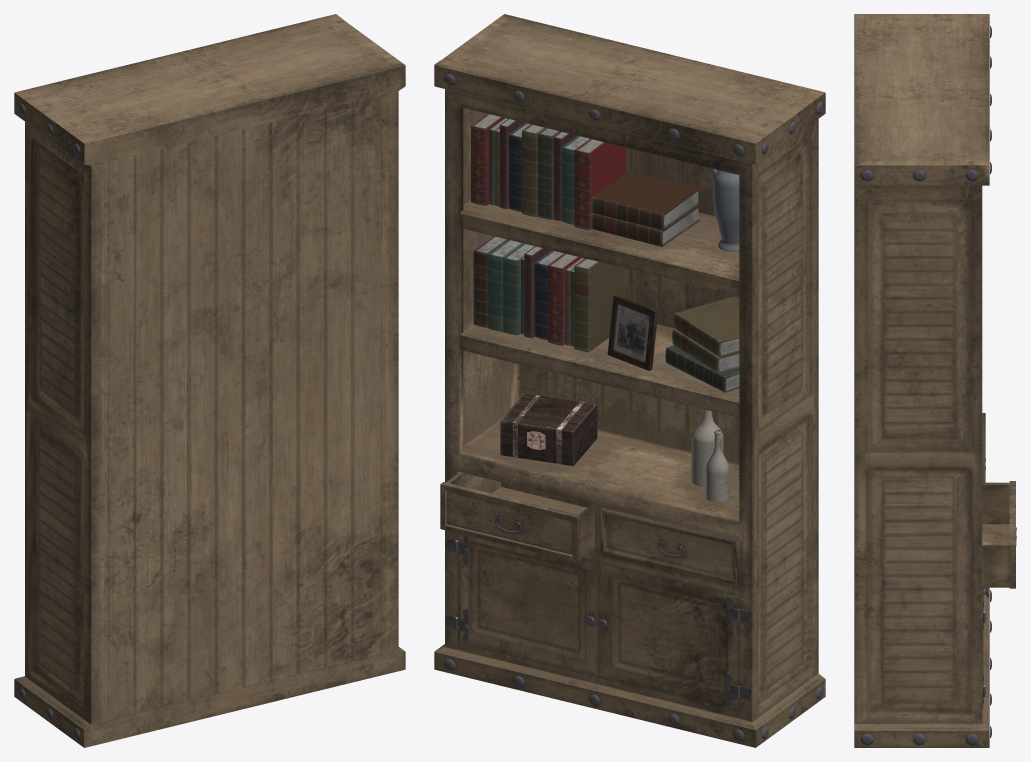
Rendered from book_shelf.glb.
The picture shows the model from 3 angles, left to right: view 1: azimuth 30°, elevation 25°; view 2: azimuth 150°, elevation 25°; view 3: azimuth 270°, elevation 25°; orthographic projection. The views are drawn at different scales.
Visible parts, largest first — view 1: Shelf_lo; view 2: Shelf_lo, TopShelf_lo, Drawer_lo, BottomShelf_lo, Box_lo, BookT05_03_lo, BookT01_02_lo, BookT02_02_lo, PictureFrame_lo, BookT05_09_lo, Vase_lo, BookT05_04_lo (+17 smaller); view 3: Shelf_lo, Drawer_lo.
Boxes of the visible parts, <box> form: Shelf_lo: <box>14,14,405,747</box>; Shelf_lo: <box>434,14,825,747</box>; TopShelf_lo: <box>459,199,739,295</box>; Drawer_lo: <box>440,472,594,562</box>; BottomShelf_lo: <box>459,319,739,417</box>; Box_lo: <box>500,393,597,466</box>; BookT05_03_lo: <box>592,171,699,230</box>; BookT01_02_lo: <box>574,258,625,352</box>; BookT02_02_lo: <box>574,139,626,230</box>; PictureFrame_lo: <box>607,295,658,370</box>; BookT05_09_lo: <box>673,296,739,357</box>; Vase_lo: <box>707,167,739,251</box>; BookT05_04_lo: <box>591,205,699,246</box>; Shelf_lo: <box>854,14,989,747</box>; Drawer_lo: <box>982,481,1015,588</box>.
Bounding box in the file's own units: 1.13 × 2 × 0.5048.
Materials: 1 (1 with a texture image).
